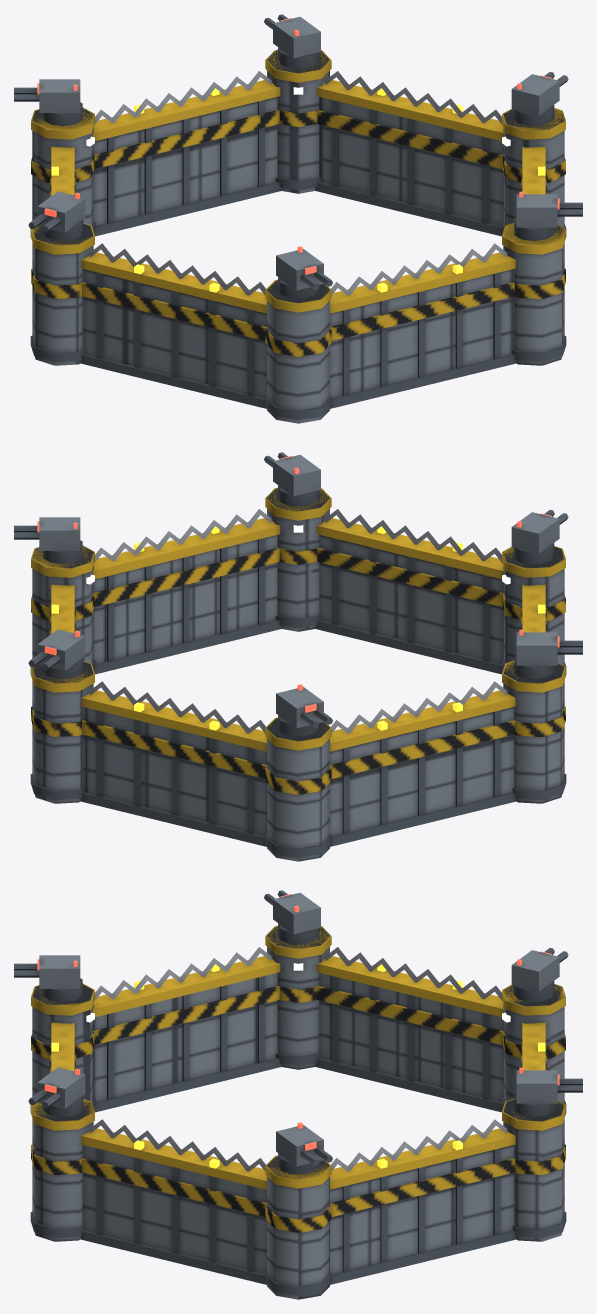
Rendered from fort_l7.glb.
The picture shows the model from 3 angles, top to bottom: view 1: azimuth 30°, elevation 25°; view 2: azimuth 150°, elevation 25°; view 3: azimuth 270°, elevation 25°; orthographic projection.
Visible parts, largest first — view 1: fort_l7; view 2: fort_l7; view 3: fort_l7.
Part boxes in pixels (x1,y1,x2,y2): fort_l7: [14, 14, 582, 423]; fort_l7: [14, 452, 582, 861]; fort_l7: [14, 890, 582, 1299].
Bounding box in the file's own units: 2.03 × 0.546 × 1.8.
Materials: 5 (1 with a texture image).
